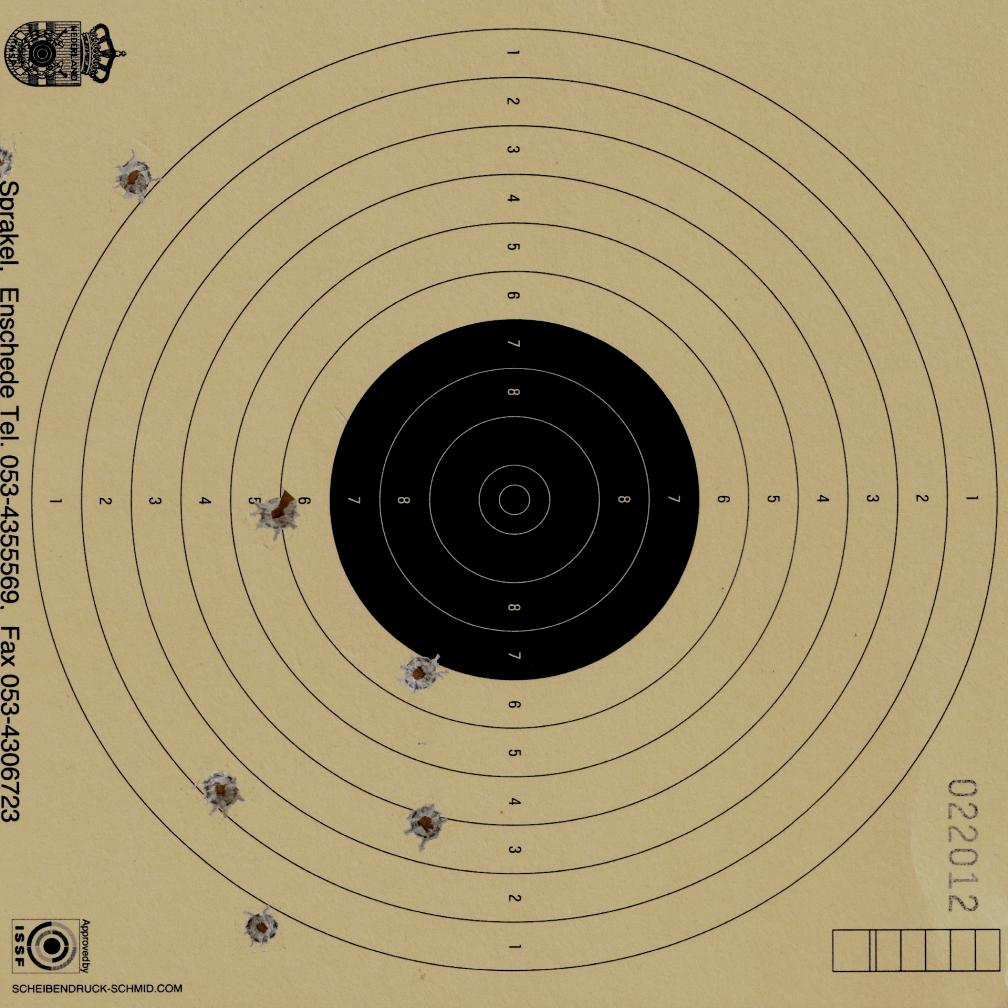0: (239, 904, 281, 948), (0, 145, 18, 180)
1: (113, 148, 163, 206)
2: (194, 769, 244, 818)
4: (400, 801, 449, 853)
6: (249, 485, 304, 545)
7: (394, 649, 446, 698)
Target: (29, 24, 1002, 977)
black_contour: (330, 319, 700, 681)
